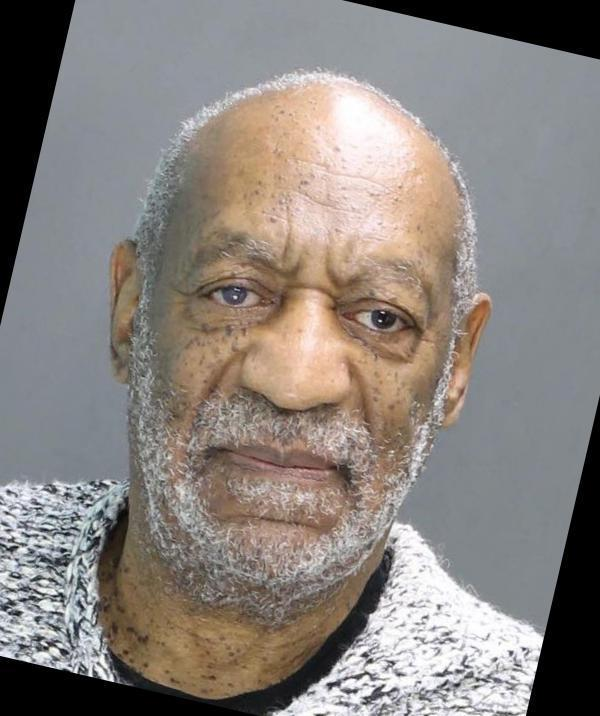Sober: (157, 110, 419, 582)
